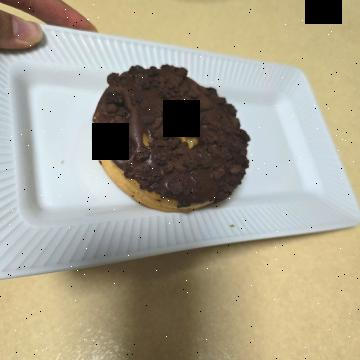doughnut: (49, 97, 223, 279)
